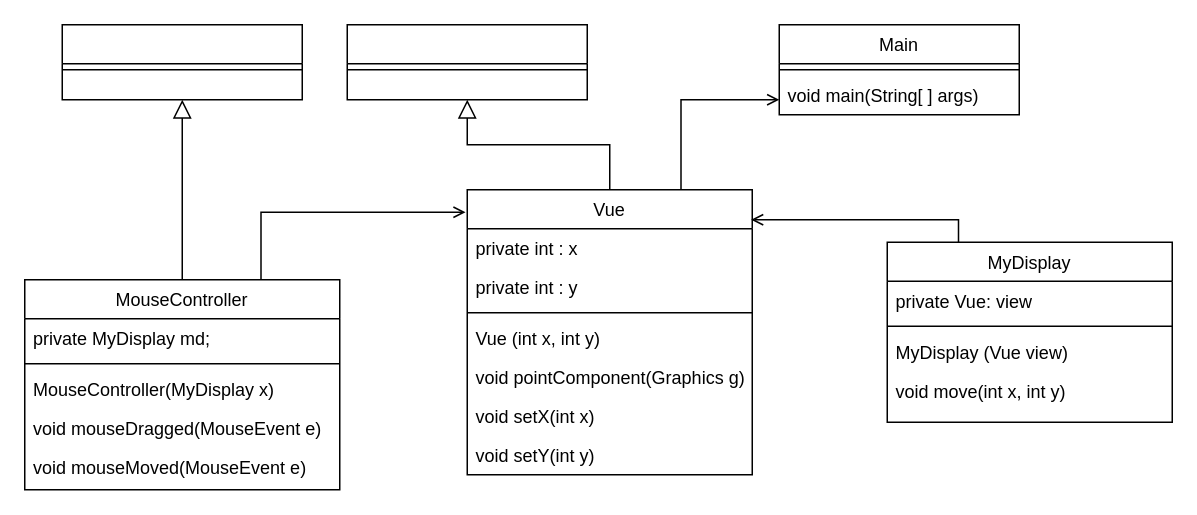
Image size: 1197x515. Some labels were removed from this diagram. The shapes that lost their labels are listed below. From the top down, each one's centre as x and y in pixels, then its label:
the point at 181,61: MouseMotionListener
the point at 466,61: JPanel
